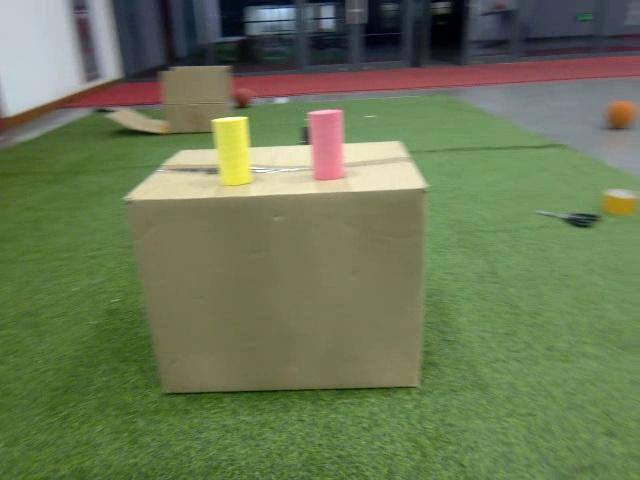orange_ball: (604, 97, 635, 134)
red_ball: (236, 88, 253, 107)
red_cylinder: (304, 107, 348, 182)
yellow_cylinder: (210, 112, 258, 188)
